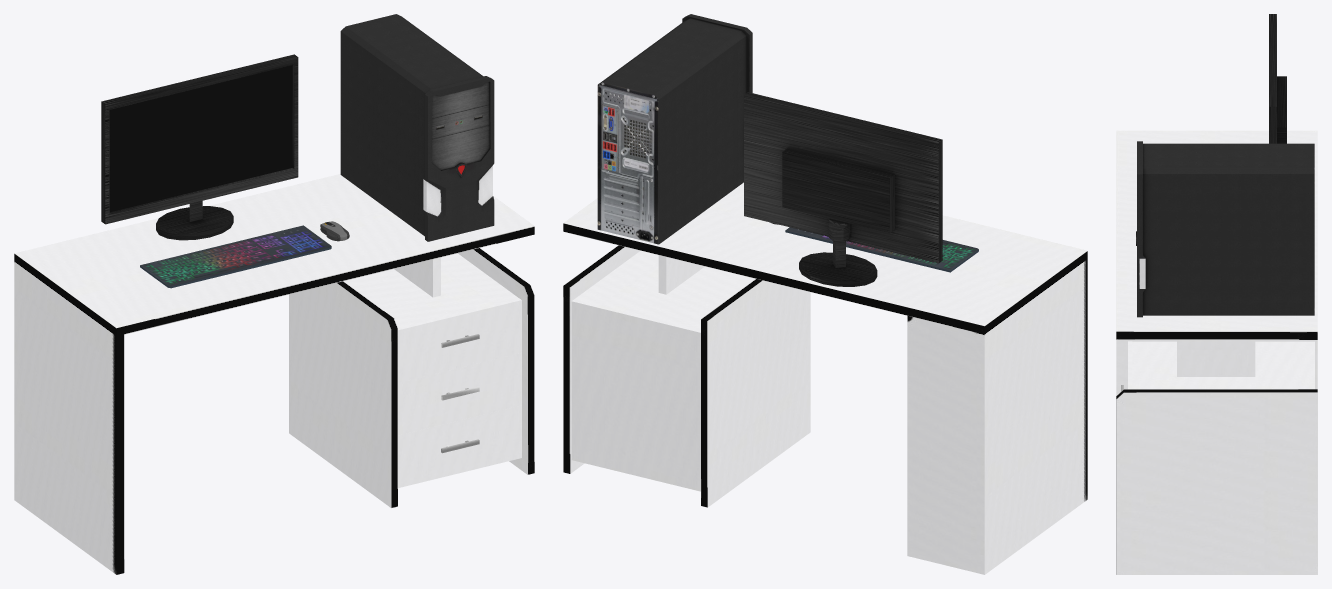
The model's file is tech_con_4.glb.
3 renders of one model, left to right at view 1: azimuth 30°, elevation 25°; view 2: azimuth 150°, elevation 25°; view 3: azimuth 270°, elevation 25°, orthographic. The views are drawn at different scales.
Visible parts, largest first — view 1: tech_con__3.001; view 2: tech_con__3.001; view 3: tech_con__3.001.
Boxes of the visible parts, left/top/right/bottom form: tech_con__3.001: left=14, top=14, right=534, bottom=574; tech_con__3.001: left=563, top=14, right=1087, bottom=574; tech_con__3.001: left=1116, top=14, right=1317, bottom=574.
Bounding box in the file's own units: 1.27 × 1.15 × 0.5364.
5 materials, 5 textured.
